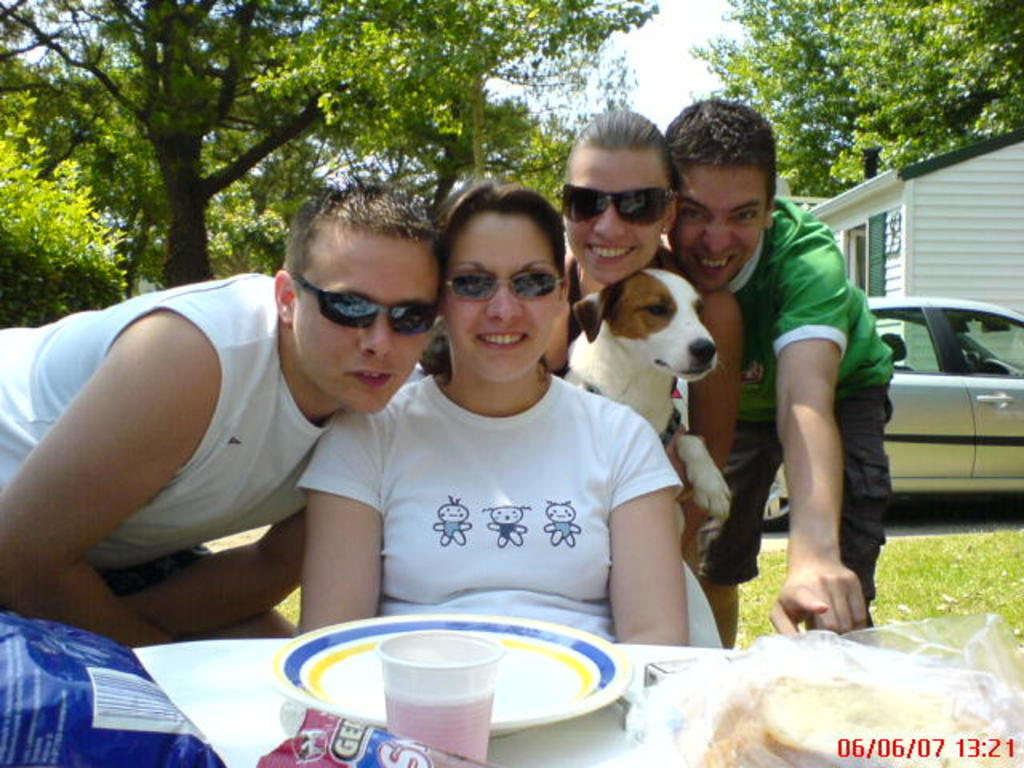Person: (0, 96, 894, 649)
